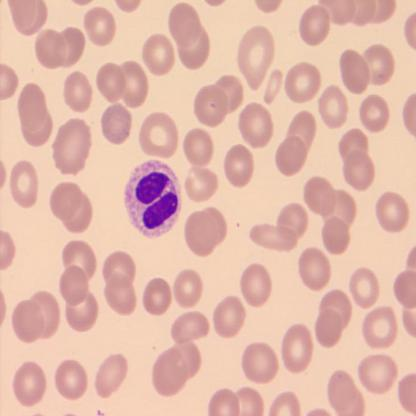Segmented neutrophil: (122, 156, 184, 241)
